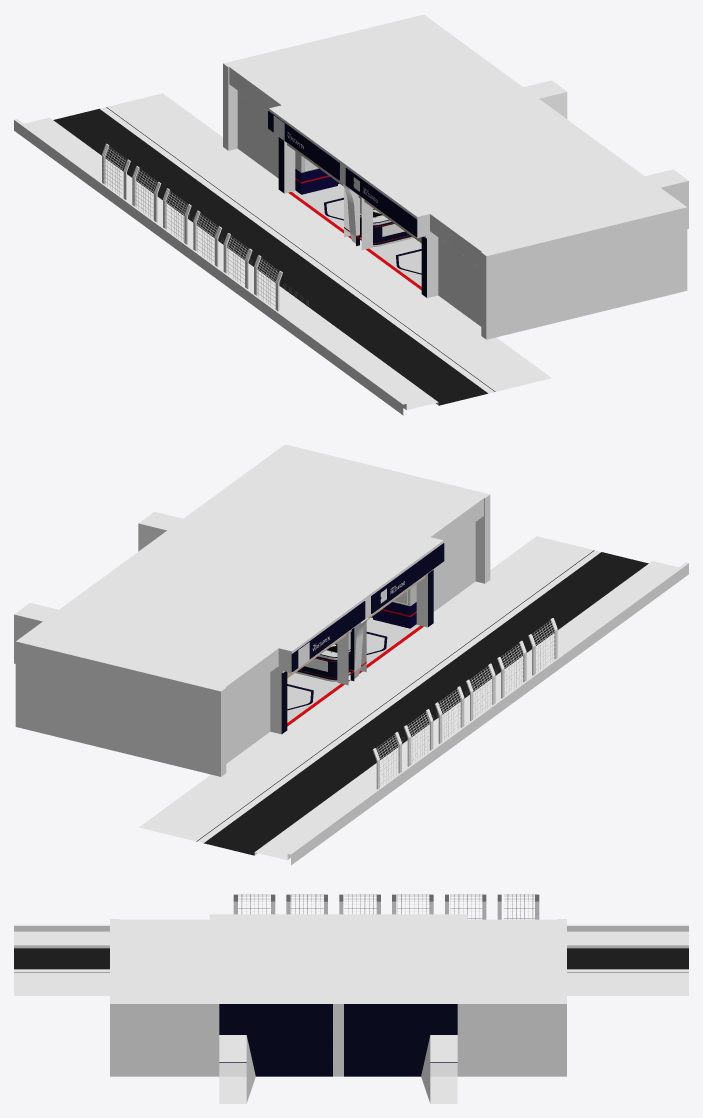
File: red_bull_f1_garage.glb
3 renders of one model, top to bottom at view 1: azimuth 30°, elevation 25°; view 2: azimuth 150°, elevation 25°; view 3: azimuth 270°, elevation 25°, orthographic. The views are drawn at different scales.
Visible parts, largest first — view 1: Cube_34, Plane_2, Plane.006_6, Cube.003_17, Plane.005_5, Cube.001_9, Cube.006_22; view 2: Cube_34, Plane_2, Plane.006_6, Cube.003_17, Plane.005_5, Cube.001_9, Cube.006_22; view 3: Cube_34, Plane_2, Plane.006_6, Plane.005_5.
Part boxes in pixels (box(x1,y1,x2,y2)): Cube_34: box(223, 14, 688, 339); Plane_2: box(14, 93, 551, 415); Plane.006_6: box(103, 145, 278, 305); Cube.003_17: box(268, 111, 417, 237); Plane.005_5: box(102, 143, 282, 311); Cube.001_9: box(295, 151, 339, 194); Cube.006_22: box(360, 199, 413, 246); Cube_34: box(14, 444, 490, 776); Plane_2: box(139, 536, 688, 865); Plane.006_6: box(375, 620, 555, 784); Cube.003_17: box(291, 543, 444, 671); Plane.005_5: box(372, 618, 557, 789); Cube.001_9: box(371, 584, 416, 628); Cube.006_22: box(295, 633, 350, 681); Cube_34: box(110, 914, 566, 1103); Plane_2: box(14, 924, 688, 995); Plane.006_6: box(238, 894, 536, 919); Plane.005_5: box(233, 894, 539, 919).
Bounding box in the file's own units: 261 × 52.67 × 435.
13 materials, 7 textured.
